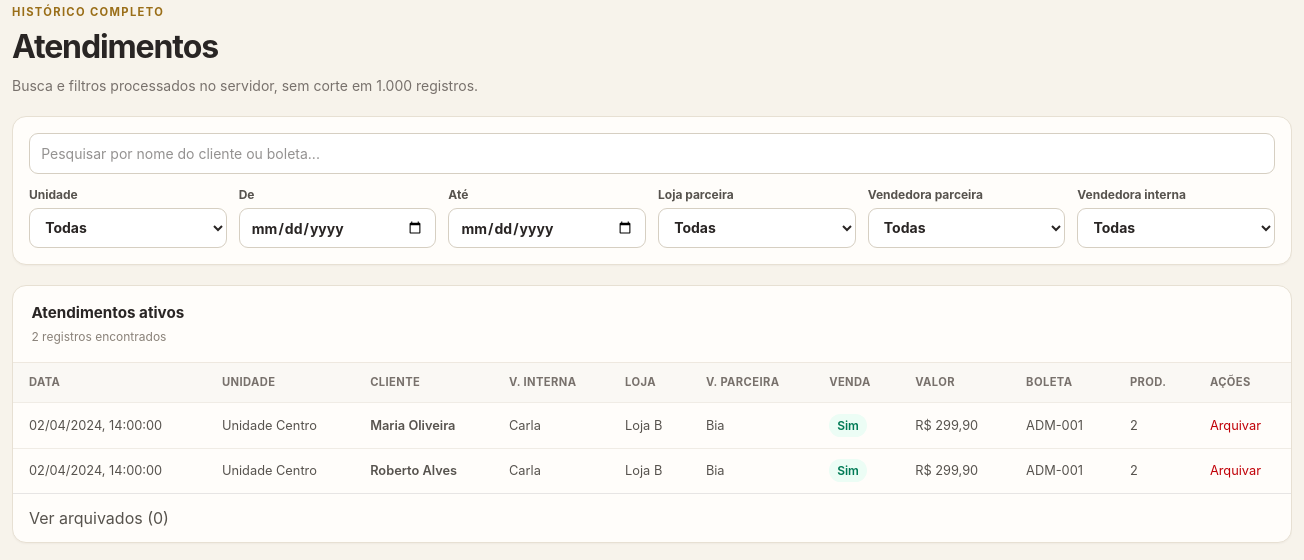
Test case: TabAtendimentos (Admin) › busca filtra por nome do cliente
The width and height of the screenshot is (1304, 560).
Expected: the text "Maria Oliveira" is shown, top-left (354, 402), bottom-right (493, 448)
Type "Maria" into the field with placeholder "Pesquisar por nome do cliente ou boleta..." at [652, 154], box top-left (29, 133), bottom-right (1275, 174)
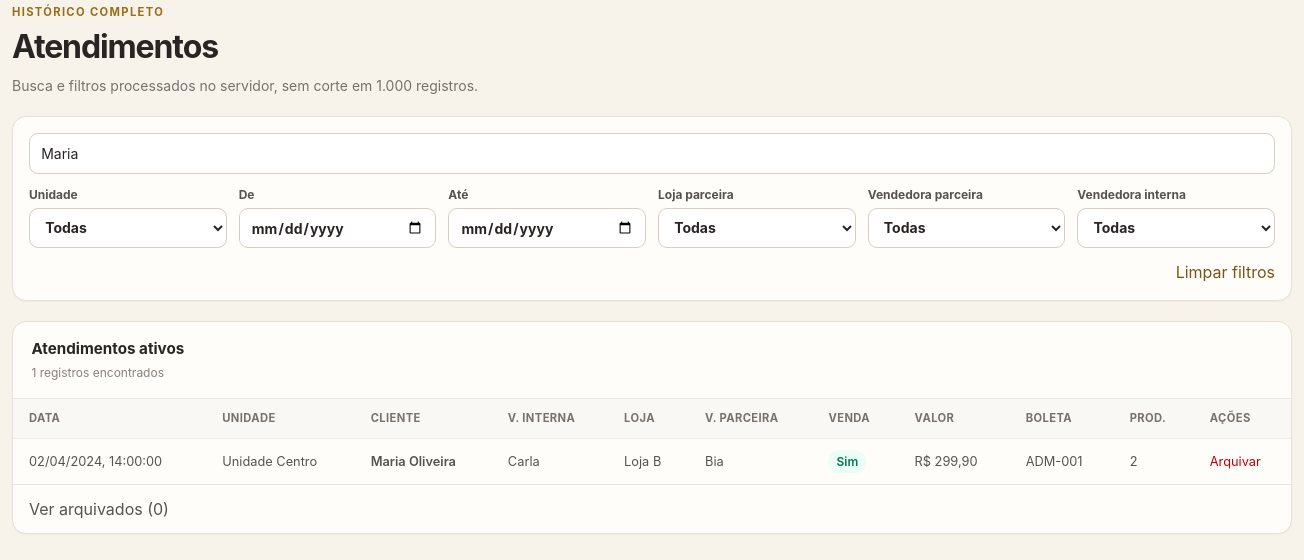
Expected: the text "Maria Oliveira" is shown, top-left (355, 438), bottom-right (492, 484)
Expected: the text "Roberto Alves" is gone
